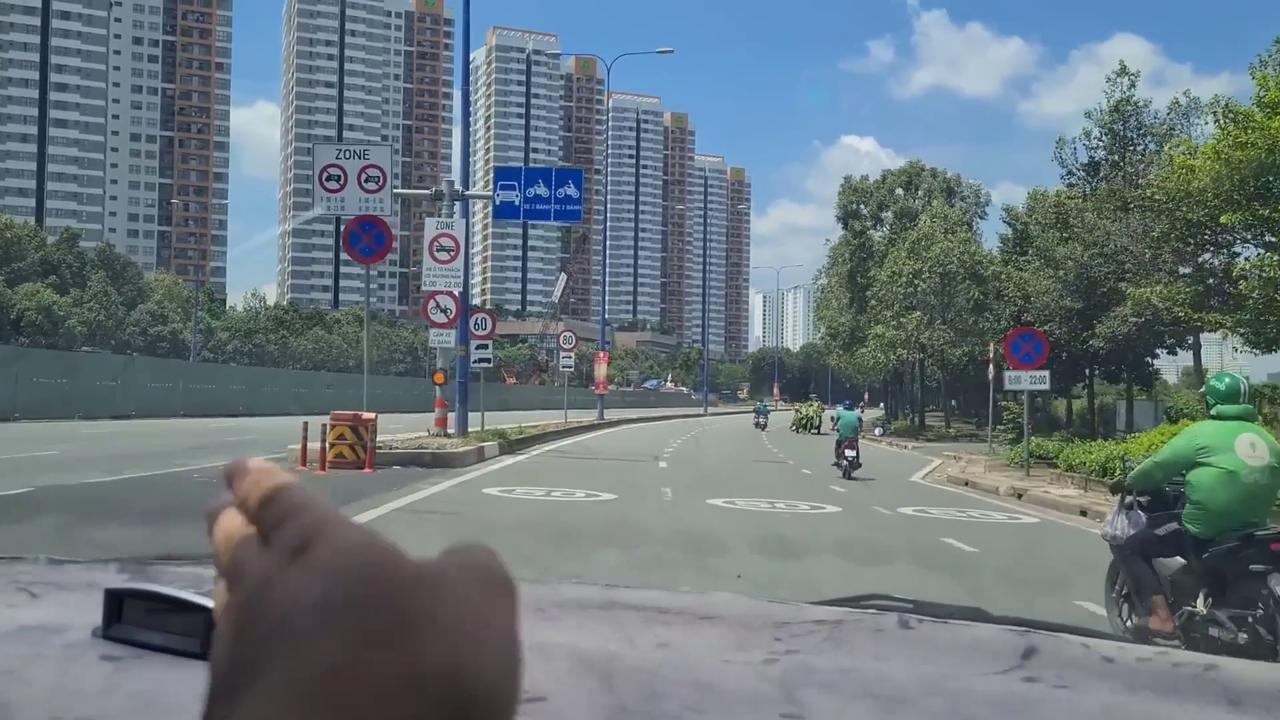Biển phụ: (1003, 369, 1051, 392), (469, 339, 494, 368), (429, 328, 455, 349), (558, 350, 576, 372)
Cấm cac phương tiện hoạt động trong khung giờ cố định: (309, 141, 395, 217), (422, 217, 464, 292)
Cấm dừng - Cấm đỗ: (341, 212, 393, 266), (1000, 326, 1054, 370)
Cấm xe máy: (421, 289, 463, 329)
GIơi hạn tốc độ 60Km/h: (467, 308, 498, 341)
Giới hạn tốc độ 80Km/h: (558, 328, 579, 350)
Làn đường cho từng xe: (490, 163, 584, 225)
